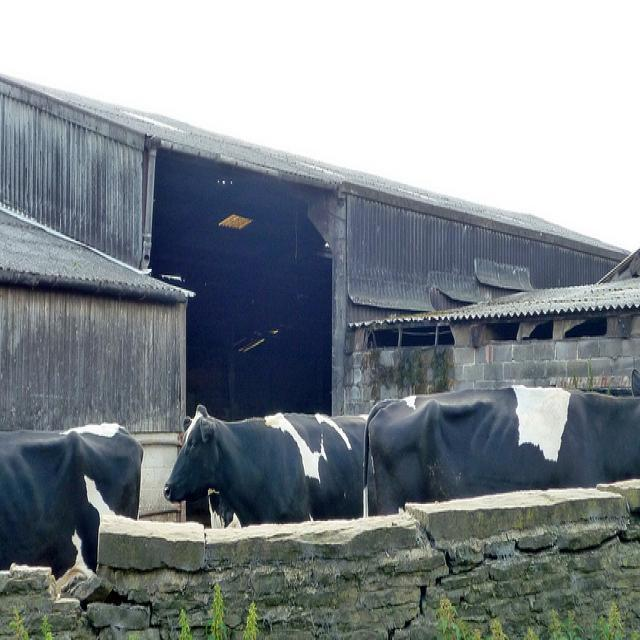cow: (361, 371, 638, 515), (161, 403, 364, 532), (0, 419, 144, 578)
